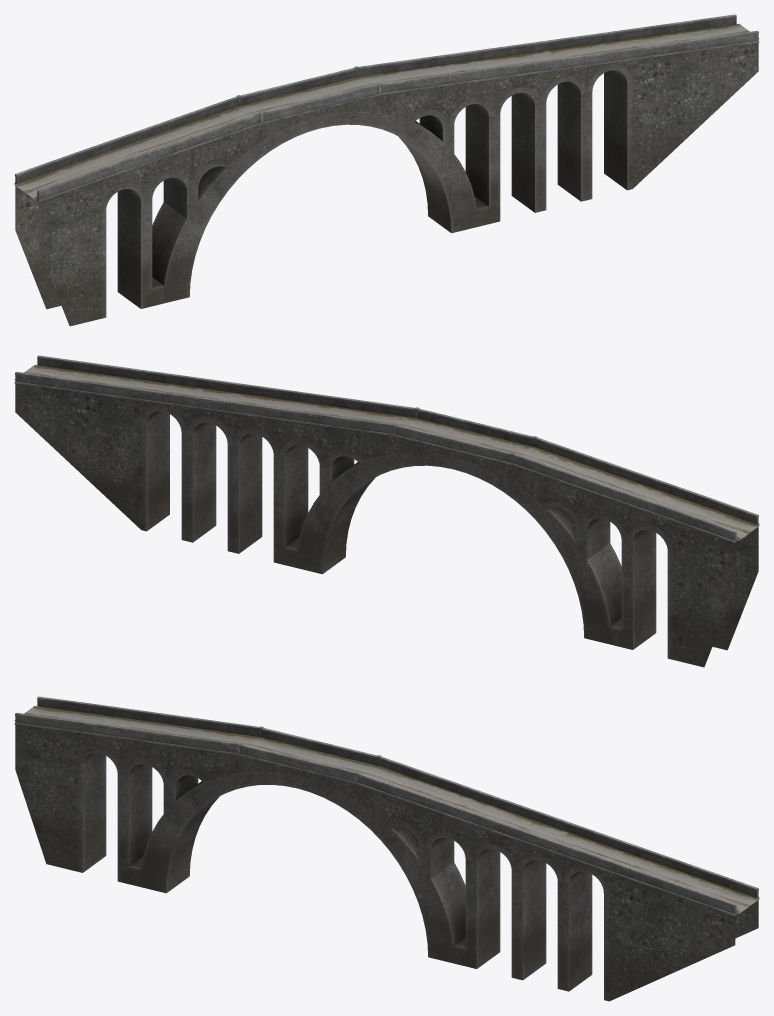
Rendered from archbridge.glb.
3 views of the same model, one above another, from view 1: azimuth 30°, elevation 25°; view 2: azimuth 150°, elevation 25°; view 3: azimuth 330°, elevation 25° (orthographic).
Visible parts, largest first — view 1: Object_4; view 2: Object_4; view 3: Object_4.
Part boxes in pixels (<box>): Object_4: <box>14,14,759,326</box>; Object_4: <box>14,355,759,667</box>; Object_4: <box>14,696,759,1001</box>.
Bounding box in the file's own units: 71.82 × 15.8 × 4.26.
1 material, 1 textured.
